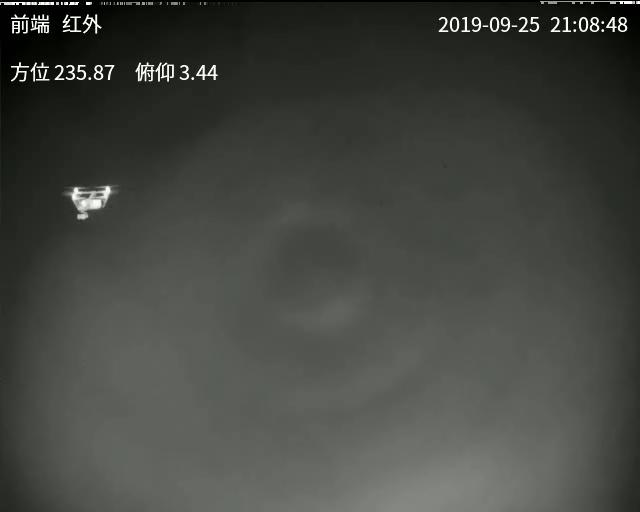uav: (68, 183, 113, 221)
